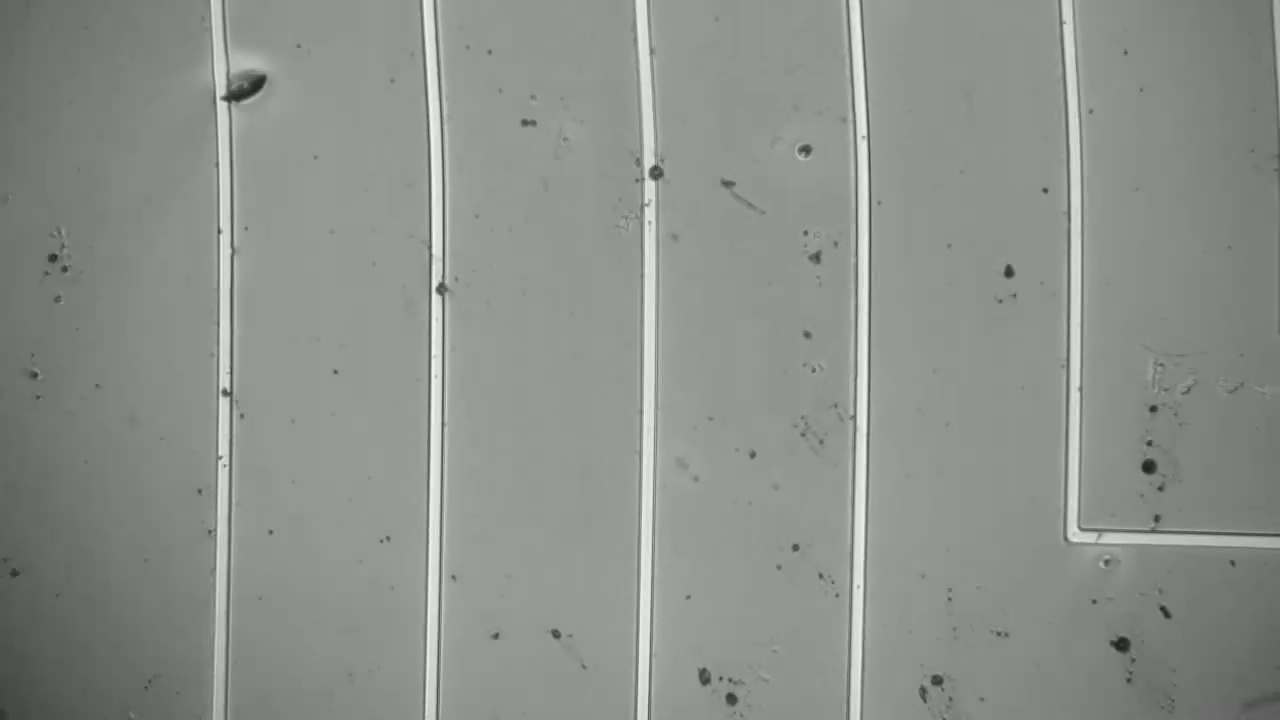stains_enbedded: (637, 158, 669, 186), (424, 278, 453, 301), (213, 384, 237, 404)
